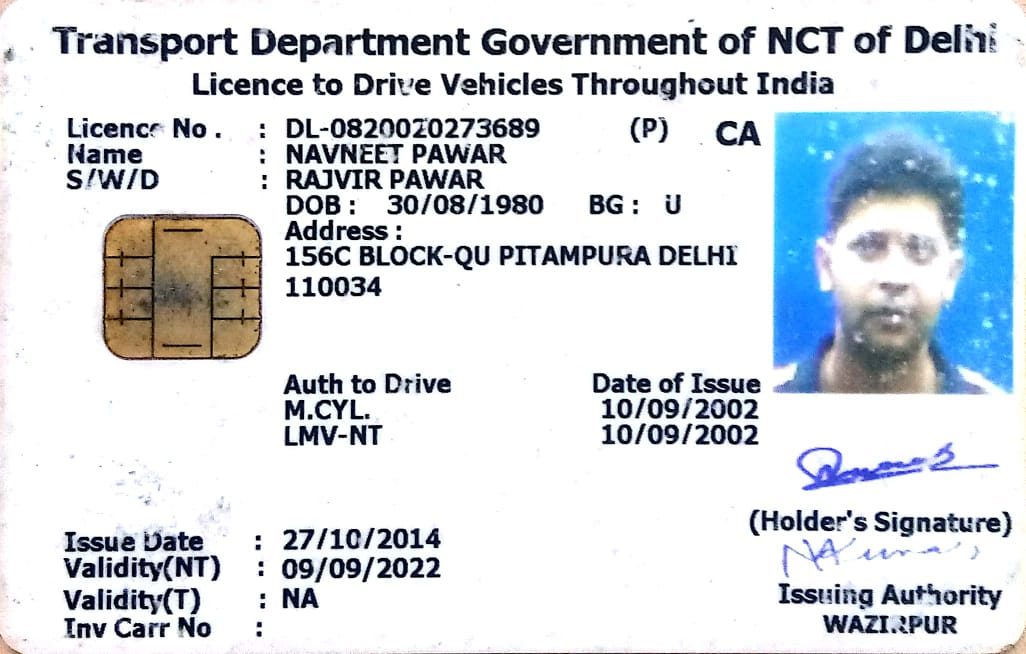text: (64, 114, 542, 142), (66, 166, 487, 196), (64, 141, 508, 165), (284, 192, 547, 219)
